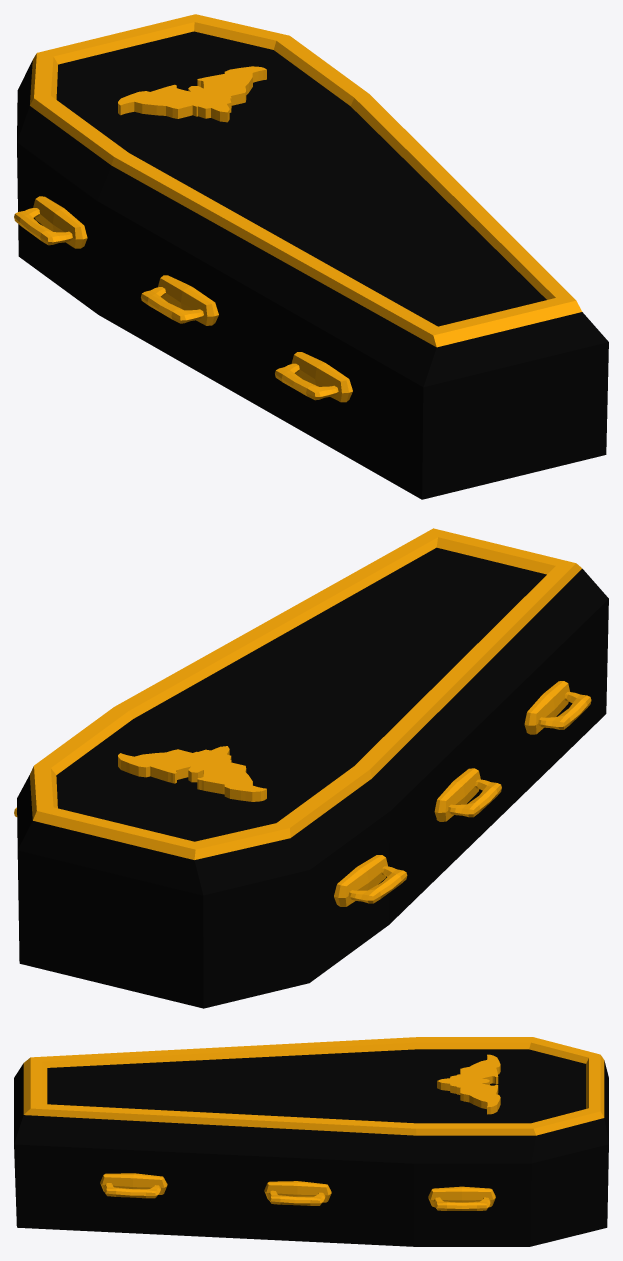
File: Caixao.fbx
3 views of the same model, one above another, from view 1: azimuth 30°, elevation 25°; view 2: azimuth 150°, elevation 25°; view 3: azimuth 270°, elevation 25° (orthographic). The views are drawn at different scales.
Parts seen in each view (by area): view 1: Caixao; view 2: Caixao; view 3: Caixao.
Part boxes in pixels (left/top/right/bottom): Caixao: left=14, top=14, right=608, bottom=499; Caixao: left=14, top=528, right=608, bottom=1008; Caixao: left=14, top=1037, right=608, bottom=1246.
Size of the model in its own units: 118 by 47.99 by 227.
Materials: 1 (1 with a texture image).
